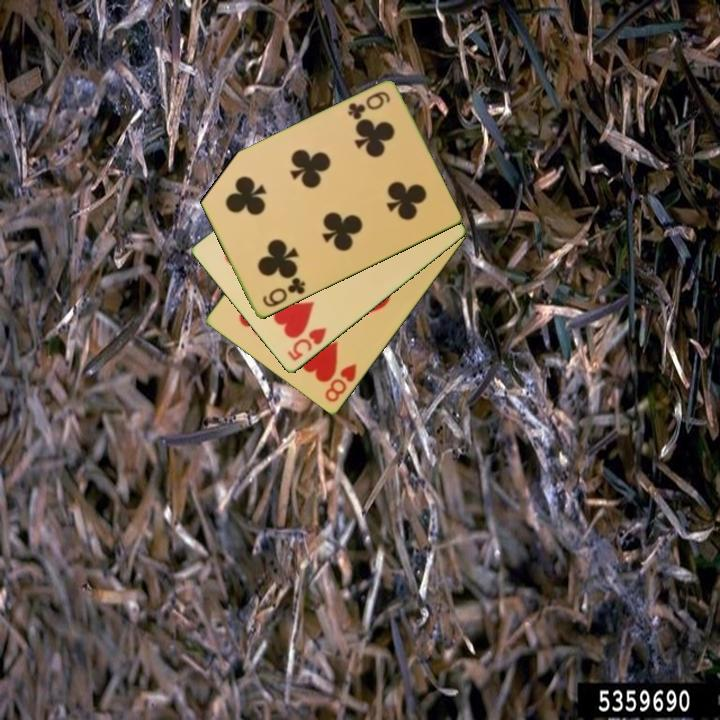5h: (284, 324, 329, 364)
6c: (258, 274, 308, 311), (344, 88, 393, 123)
8h: (321, 360, 360, 406)
